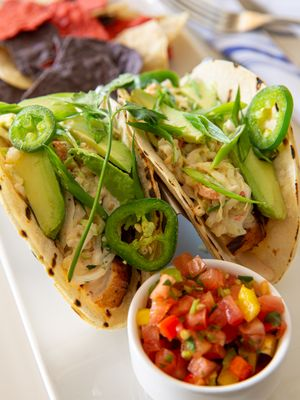sushi: (127, 254, 291, 400)
